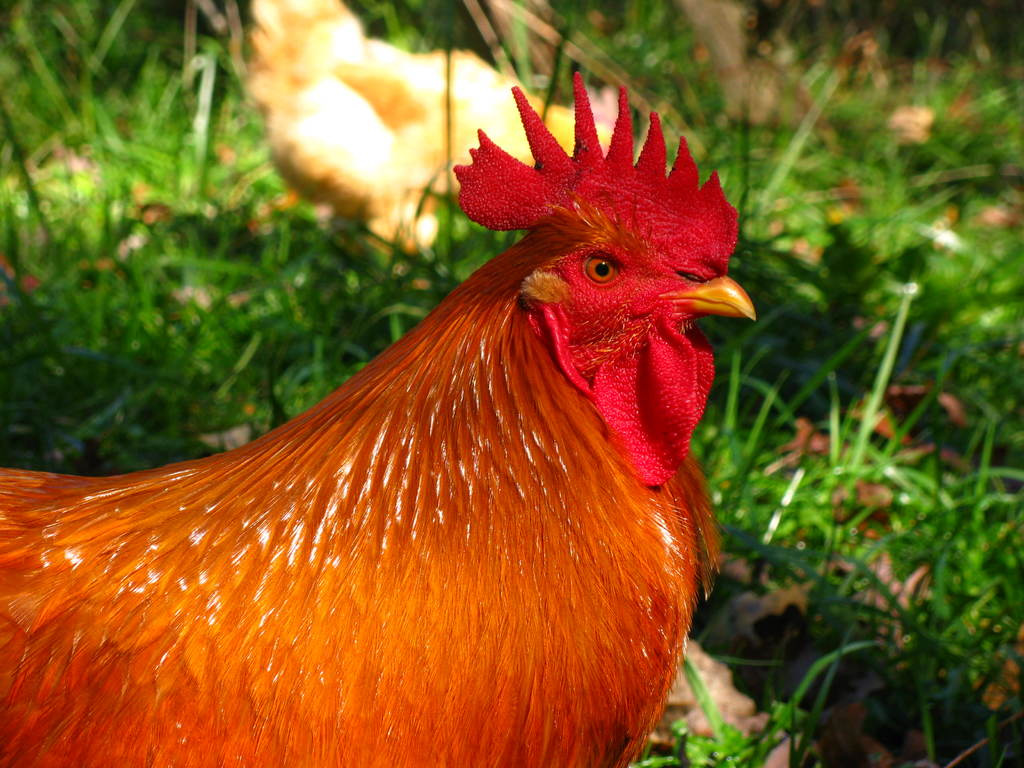face: (550, 160, 735, 409)
